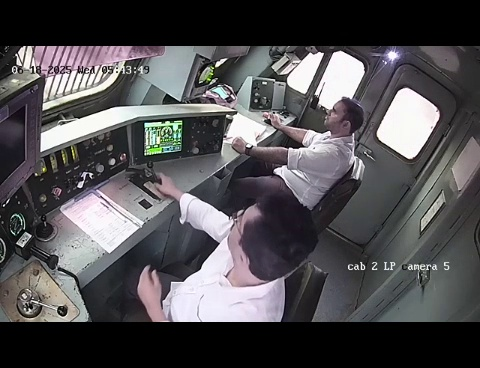brake_released: (1, 254, 87, 322)
horn_inactive: (28, 210, 64, 251)
